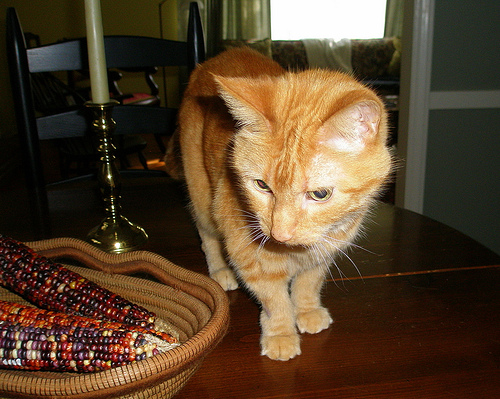corn: (0, 235, 181, 339), (1, 296, 163, 381)
